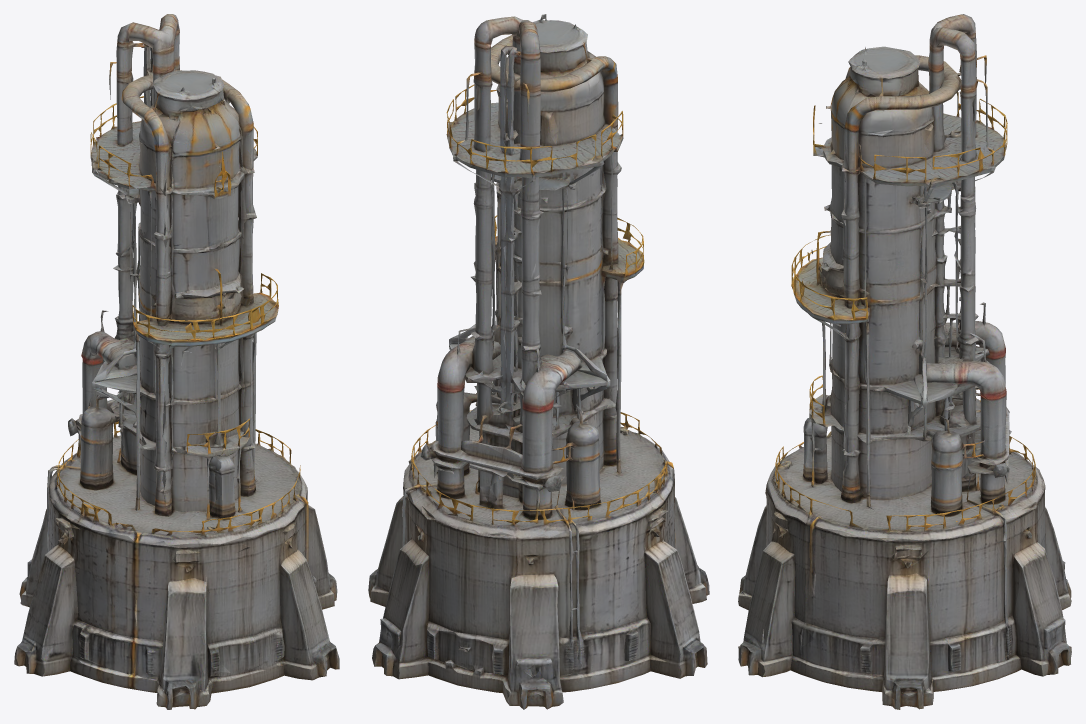
The model's file is BG-HEAT-lod0.glb.
3 views of the same model, side by side, from view 1: azimuth 30°, elevation 25°; view 2: azimuth 150°, elevation 25°; view 3: azimuth 270°, elevation 25° (orthographic). The views are drawn at different scales.
Visible parts, largest first — view 1: Mesh; view 2: Mesh; view 3: Mesh.
Boxes of the visible parts, x1,y1,x2,y2 form: Mesh: (14, 14, 339, 709); Mesh: (368, 14, 709, 709); Mesh: (738, 14, 1071, 709).
Bounding box in the file's own units: 1.04 × 1.9 × 0.9431.
Materials: 1 (1 with a texture image).
